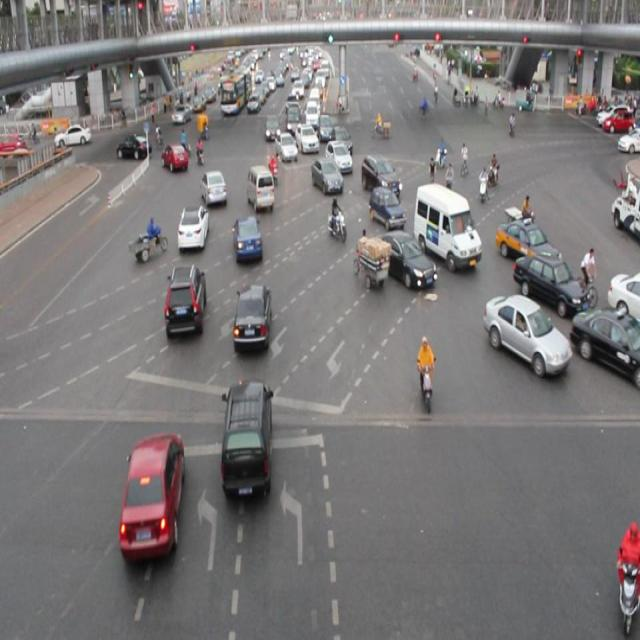car: (119, 432, 186, 566), (220, 377, 273, 504), (482, 298, 564, 372), (571, 307, 640, 382), (513, 248, 584, 316), (373, 230, 433, 290), (496, 215, 561, 270), (164, 263, 208, 338), (232, 280, 274, 356), (431, 194, 474, 249), (359, 153, 401, 198), (606, 266, 640, 318), (177, 204, 210, 254), (231, 214, 263, 264), (367, 185, 405, 226), (310, 156, 344, 198), (200, 169, 227, 208), (158, 141, 191, 172), (116, 133, 150, 163), (323, 139, 352, 173), (272, 129, 298, 165), (327, 124, 354, 157), (294, 122, 318, 157)
truck: (412, 182, 480, 271), (246, 161, 275, 217)
